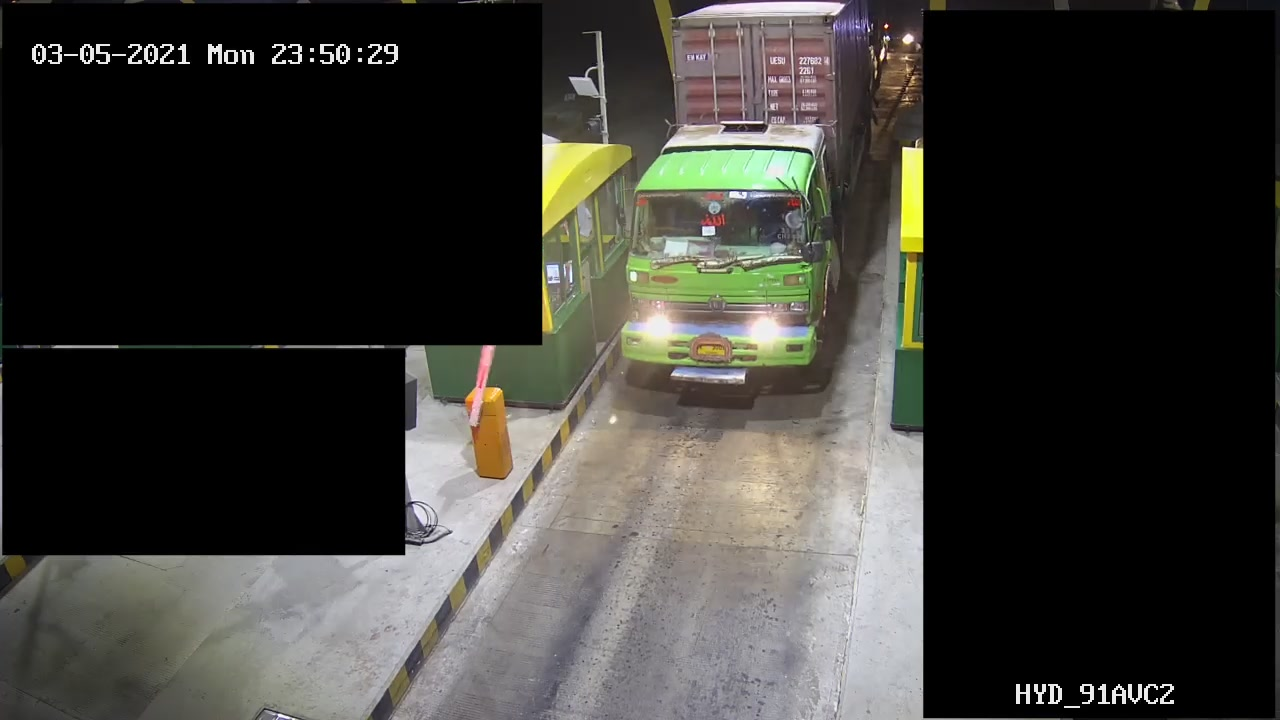F6: (616, 1, 880, 399)
